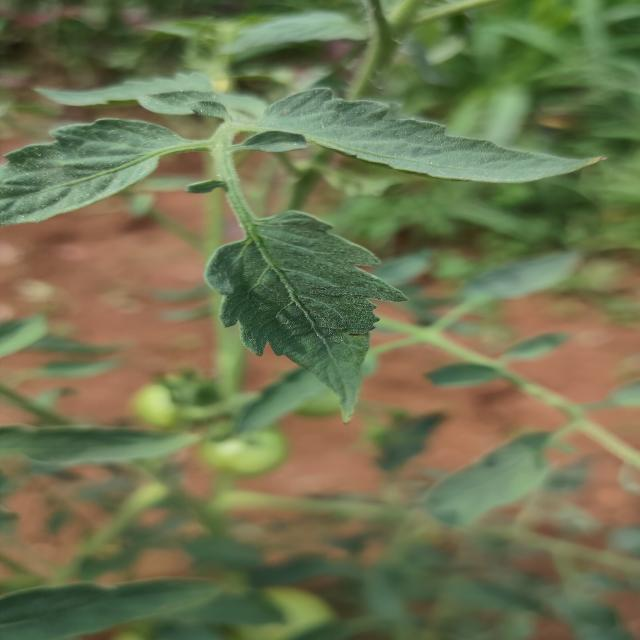tomato_healthy: (204, 210, 406, 421), (258, 88, 602, 182), (0, 118, 203, 224)
